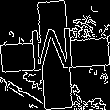M_S: (30, 28, 80, 82)
